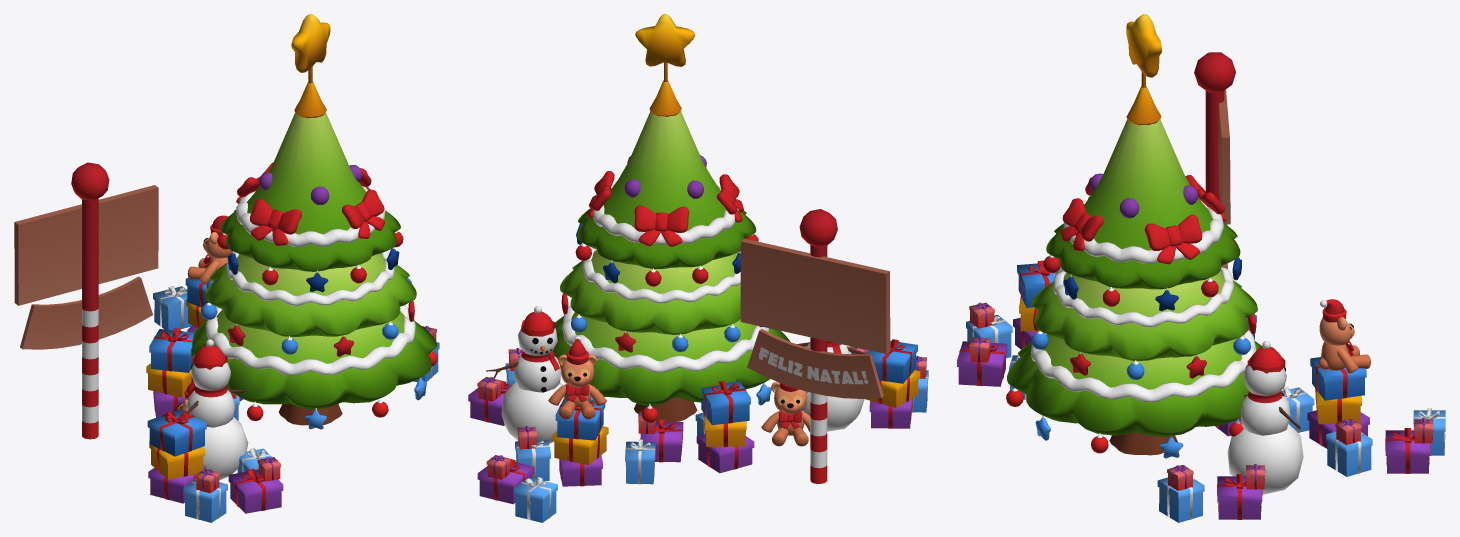
Rendered from Props_Natal.fbx.
The picture shows the model from 3 angles, left to right: view 1: azimuth 30°, elevation 25°; view 2: azimuth 150°, elevation 25°; view 3: azimuth 270°, elevation 25°; orthographic projection. The views are drawn at different scales.
Parts seen in each view (by area): view 1: object_1.001, Cylinder.012, gifts_low.001, snowman body.005, object_2.003; view 2: object_1.001, gifts_low.001, Cylinder.012, snowman body.006, object_2.003, object_2.004, snowman body.005, Text; view 3: object_1.001, gifts_low.001, snowman body.006, Cylinder.012, object_2.003.
Part boxes in pixels (box(x1,y1,x2,y2)): object_1.001: box(191, 14, 437, 429); Cylinder.012: box(14, 162, 158, 439); gifts_low.001: box(146, 277, 439, 522); snowman body.005: box(186, 339, 248, 480); object_2.003: box(187, 215, 232, 284); object_1.001: box(553, 14, 790, 422); gifts_low.001: box(468, 339, 928, 522); Cylinder.012: box(740, 209, 890, 483); snowman body.006: box(486, 306, 564, 443); object_2.003: box(548, 336, 606, 419); object_2.004: box(761, 381, 810, 446); snowman body.005: box(797, 341, 866, 431); Text: box(759, 347, 868, 384); object_1.001: box(1006, 14, 1262, 458); gifts_low.001: box(957, 260, 1445, 522); snowman body.006: box(1227, 341, 1303, 494); Cylinder.012: box(1194, 52, 1235, 268); object_2.003: box(1318, 299, 1370, 373).
Bounding box in the file's own units: 509 × 493 × 497.
